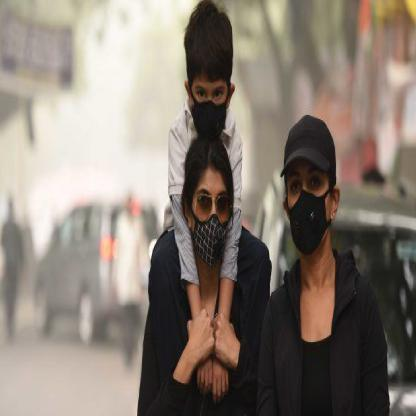Wearing_Mask: (271, 119, 340, 261), (180, 133, 236, 255), (182, 3, 235, 126)
